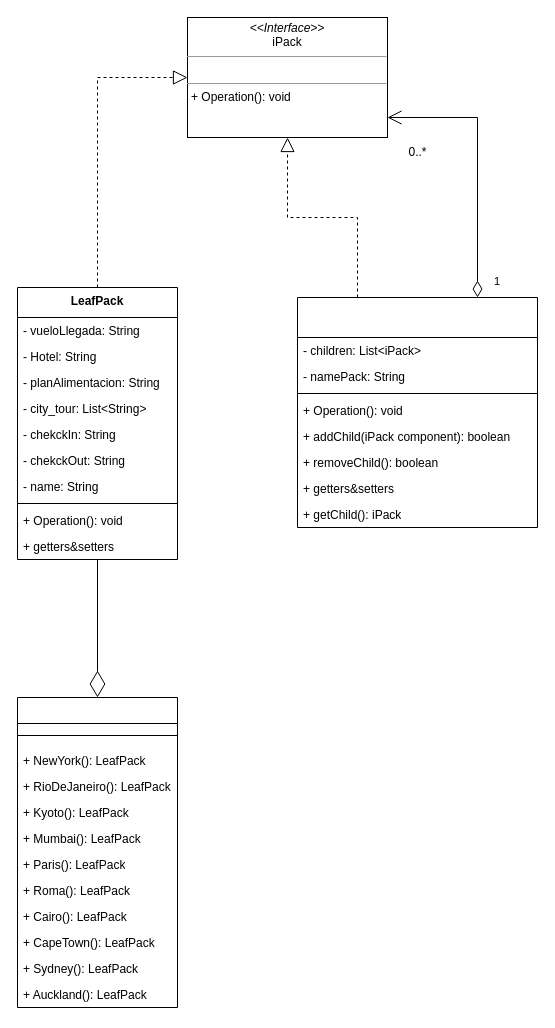
Some shapes in this 555 by 1028 pixel diagram are drawn without their labels. The box of each missing label's shape, as (x1, y1, x2, y2) in pixels:
Cities: (16, 696, 178, 1008)
CompoundPack: (296, 296, 538, 528)
